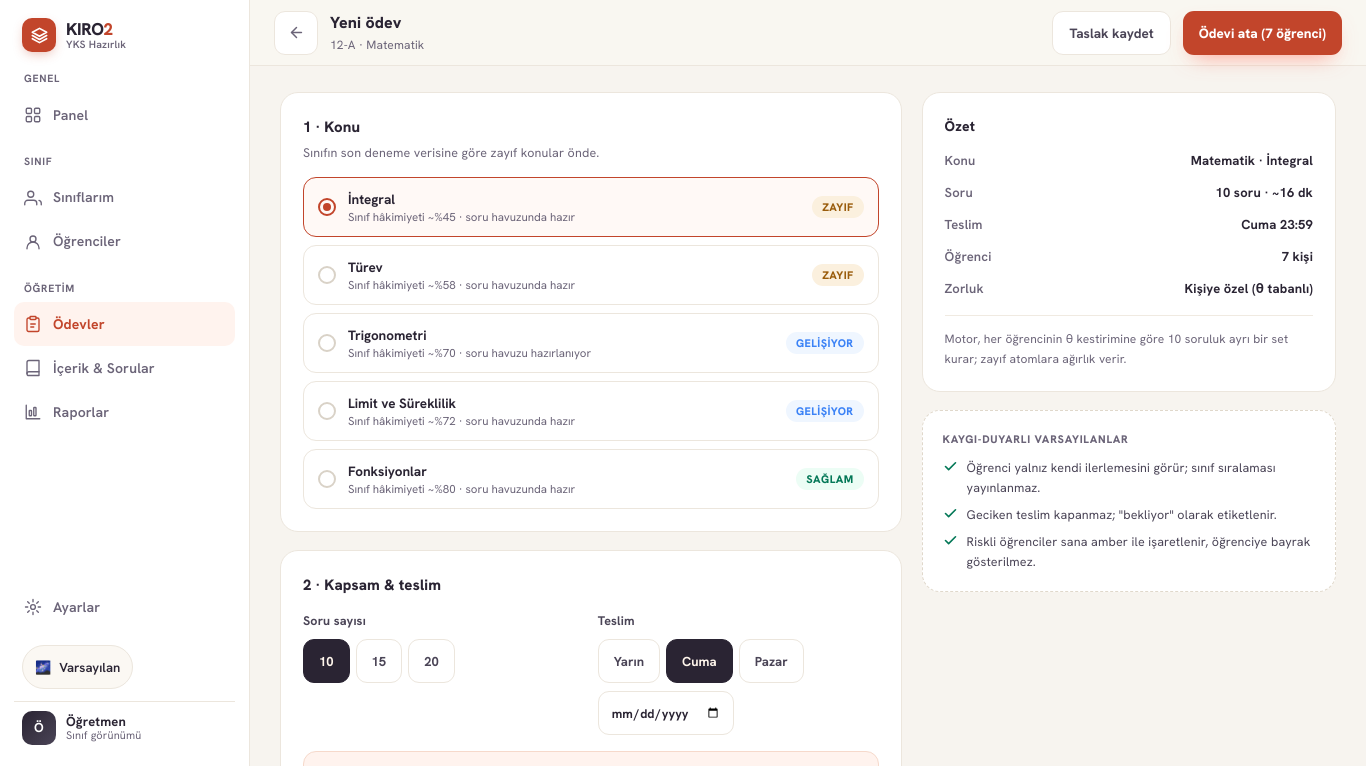
Test case: OdevAtamaPage › CTA "Ödevi ata" → başarı bandı (role=status) görünür
Expected: the text "İntegral" is shown, x1=348 y1=190 x2=395 y2=208
Click the button "Ödevi ata (7 öğrenci)". click: coordinates (1262, 32)
box: x1=1183 y1=10 x2=1342 y2=54
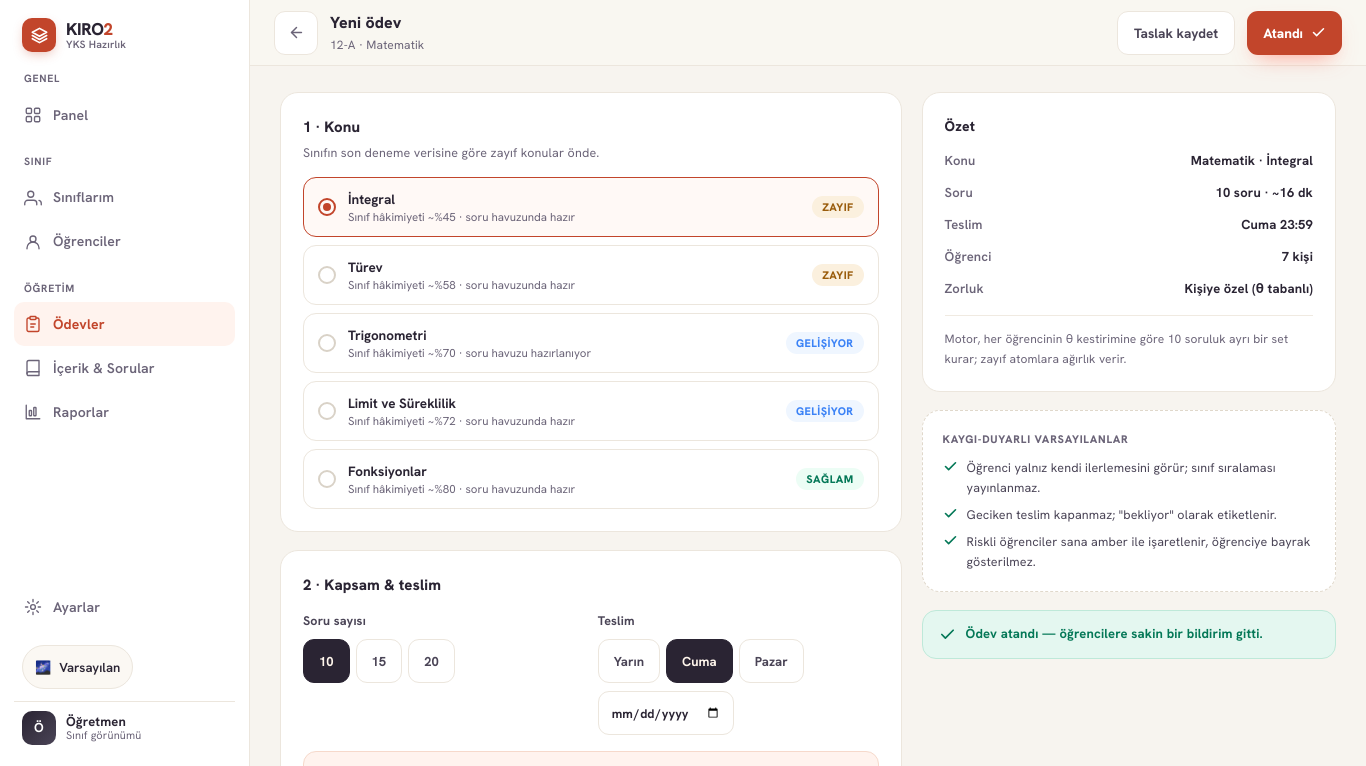
Expected: the message shows "Ödev atandı — öğrencilere sakin bir bildirim gitti", x1=966 y1=625 x2=1263 y2=642
